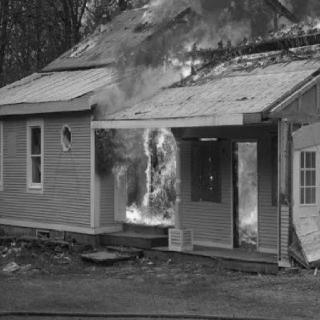Fire: (92, 126, 178, 230), (65, 27, 119, 57)
